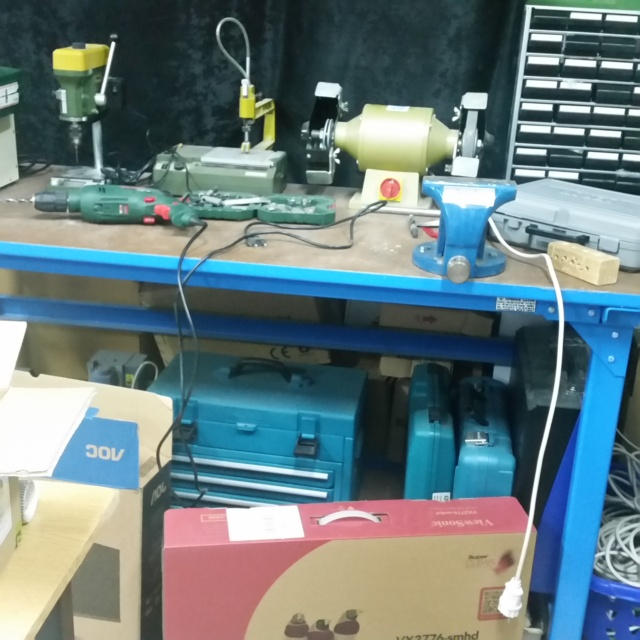drill: (3, 183, 213, 233)
